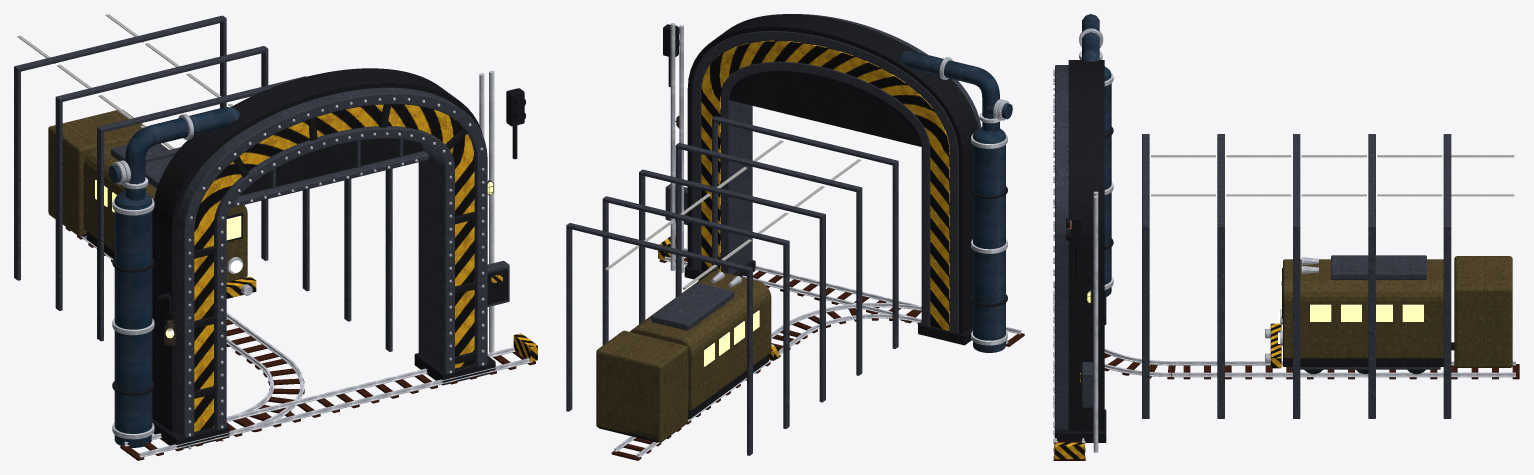
The model's file is fachada_06.glb.
The picture shows the model from 3 angles, left to right: view 1: azimuth 30°, elevation 25°; view 2: azimuth 150°, elevation 25°; view 3: azimuth 270°, elevation 25°; orthographic projection. The views are drawn at different scales.
Parts seen in each view (by area): view 1: F06_aro_int, F06_faixa, F06_aro_ext, F06_labio, F06_tanque, F06_vagao, F06_timpano, F06_loc_corpo, F06_cano, F06_verga, F06_trilho_frente-1, F06_presilha (+22 smaller); view 2: F06_faixa, F06_labio, F06_vagao, F06_aro_int, F06_timpano, F06_loc_corpo, F06_aro_ext, F06_tanque, F06_cano, F06_loc_teto, F06_conduite1, F06_cambota1_-1 (+24 smaller); view 3: F06_labio, F06_loc_corpo, F06_vagao, F06_aro_ext, F06_loc_teto, F06_trilho_tunel1, F06_cambota4_1, F06_tanque, F06_cambota0_1, F06_cambota1_1, F06_cambota3_1, F06_cambota2_1 (+14 smaller).
Part boxes in pixels (x1,y1,x2,y2): F06_aro_int: (214, 126, 454, 438); F06_faixa: (194, 104, 474, 431); F06_aro_ext: (176, 87, 487, 448); F06_labio: (152, 68, 482, 432); F06_tanque: (114, 202, 152, 447); F06_vagao: (48, 109, 145, 236); F06_timpano: (240, 138, 423, 195); F06_loc_corpo: (83, 140, 247, 281); F06_cano: (125, 107, 240, 200); F06_verga: (231, 151, 429, 207); F06_trilho_frente-1: (139, 358, 532, 457); F06_presilha: (194, 104, 476, 398); F06_faixa: (701, 40, 949, 330); F06_labio: (687, 14, 978, 334); F06_vagao: (596, 330, 688, 442); F06_aro_int: (721, 61, 930, 325); F06_timpano: (729, 71, 921, 146); F06_loc_corpo: (630, 271, 771, 409); F06_aro_ext: (692, 14, 981, 332); F06_tanque: (973, 137, 1005, 352); F06_cano: (898, 51, 999, 131); F06_loc_teto: (651, 282, 733, 330); F06_conduite1: (670, 23, 675, 270); F06_cambota1_-1: (856, 189, 862, 375); F06_labio: (1068, 60, 1104, 431); F06_loc_corpo: (1283, 259, 1443, 358); F06_vagao: (1454, 256, 1512, 367); F06_aro_ext: (1055, 65, 1068, 429); F06_loc_teto: (1331, 255, 1426, 279); F06_trilho_tunel1: (1171, 372, 1515, 377); F06_cambota4_1: (1443, 225, 1451, 418); F06_tanque: (1104, 76, 1111, 296); F06_cambota0_1: (1142, 226, 1149, 418); F06_cambota1_1: (1217, 226, 1224, 418); F06_cambota3_1: (1368, 226, 1375, 418); F06_cambota2_1: (1293, 226, 1300, 418).
Size of the model in its own units: 12.37 by 9.29 by 13.59.
Materials: 16 (10 with a texture image).
